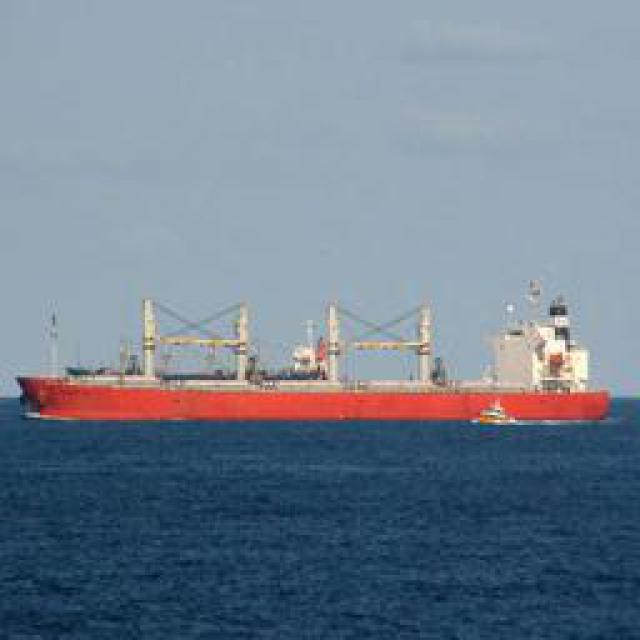Ship: (25, 289, 620, 442)
